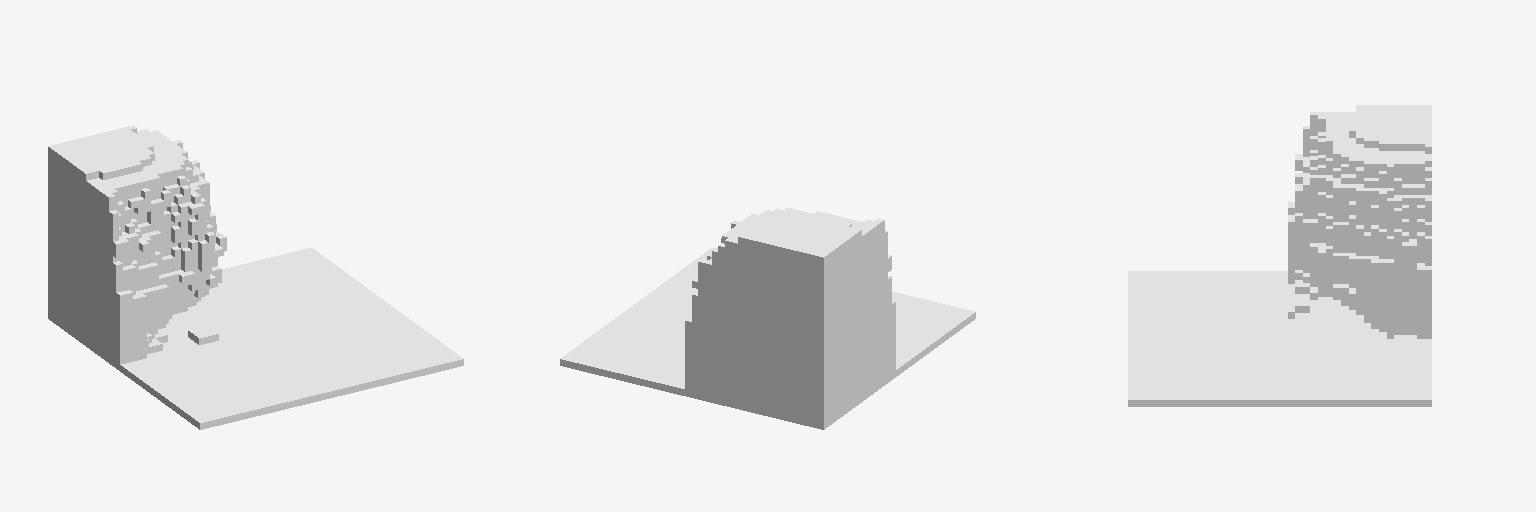
The model's file is tile-quartermountain-4.obj.
3 renders of one model, left to right at view 1: azimuth 30°, elevation 25°; view 2: azimuth 150°, elevation 25°; view 3: azimuth 270°, elevation 25°, orthographic.
Visible parts, largest first — view 1: tile-quartermountain-4; view 2: tile-quartermountain-4; view 3: tile-quartermountain-4.
Part boxes in pixels (bbox=[...]): tile-quartermountain-4: bbox=[48, 125, 463, 429]; tile-quartermountain-4: bbox=[560, 207, 975, 429]; tile-quartermountain-4: bbox=[1128, 105, 1431, 406].
Bounding box in the file's own units: 40 × 25 × 40.